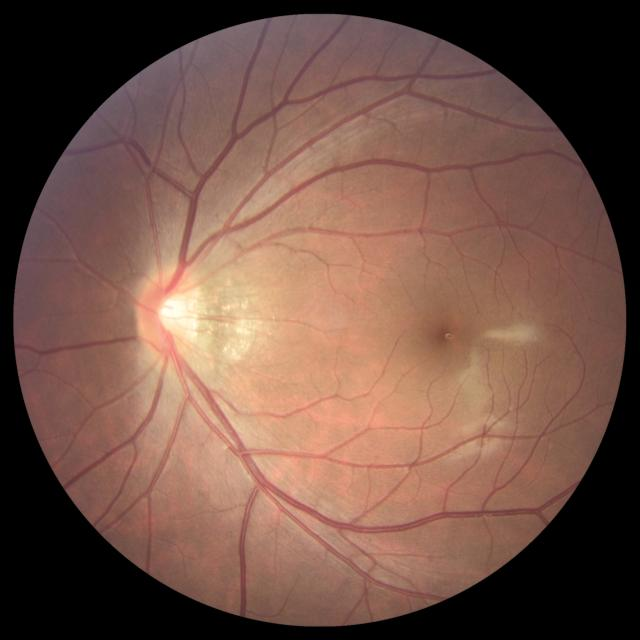OC: (158, 292, 188, 332)
OD: (133, 262, 206, 367)
